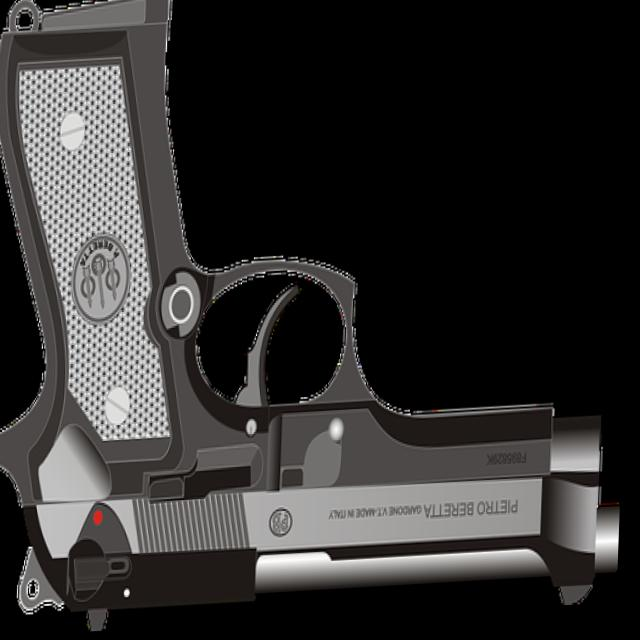handgun: (0, 0, 638, 640)
